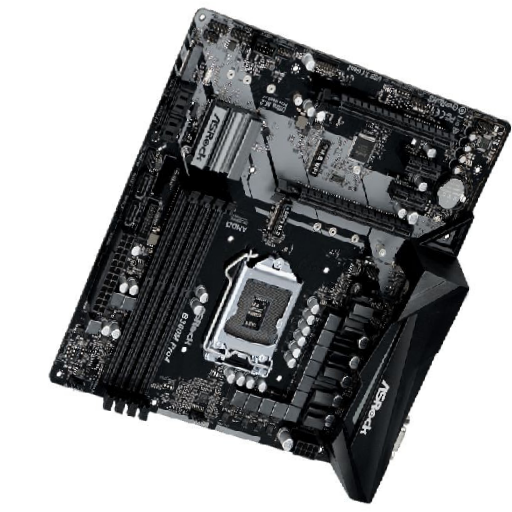CPU: (201, 257, 305, 376)
GPU: (273, 178, 414, 240), (316, 89, 454, 151)
MOTHERBOARD: (51, 10, 509, 466)
RAM: (104, 187, 238, 423)
SSD: (267, 201, 291, 241), (182, 43, 204, 81), (308, 140, 330, 176)
